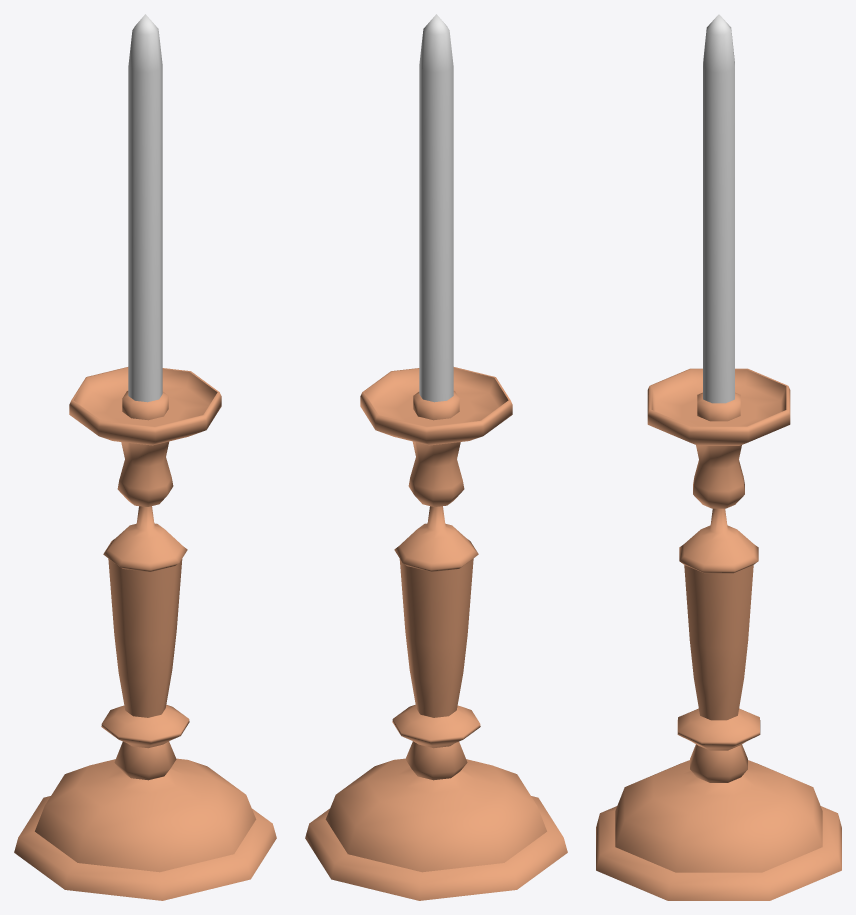
Rendered from Candle.fbx.
3 renders of one model, left to right at view 1: azimuth 30°, elevation 25°; view 2: azimuth 150°, elevation 25°; view 3: azimuth 270°, elevation 25°, orthographic.
Visible parts, largest first — view 1: candle; view 2: candle; view 3: candle.
Boxes of the visible parts, x1,y1,x2,y2 form: candle: [14, 14, 276, 900]; candle: [305, 14, 567, 900]; candle: [596, 14, 841, 900].
Bounding box in the file's own units: 15.47 × 57.98 × 15.47.
